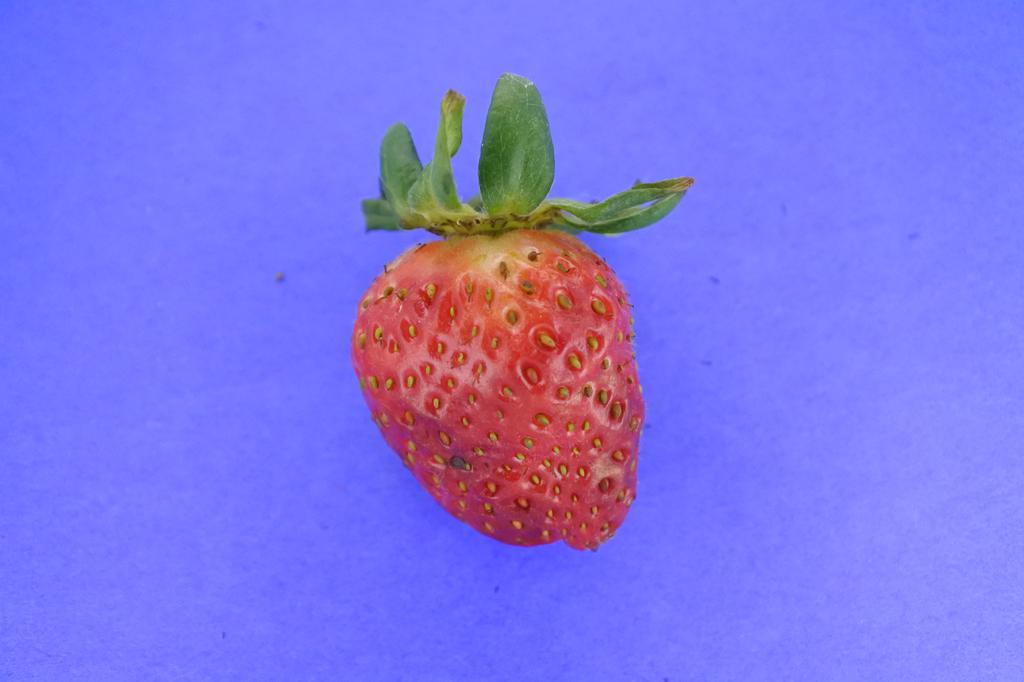red strawberry: (350, 72, 695, 554)
